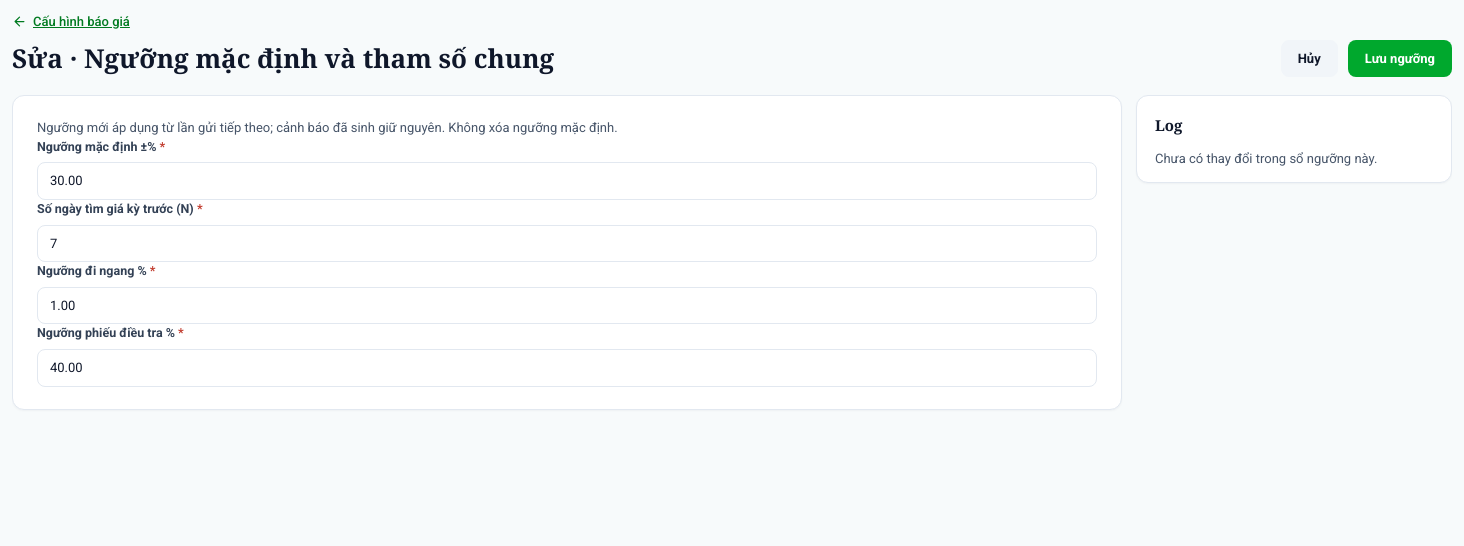
Test case: BF-SWEEP-PRICE cấu hình trên trang riêng › lỗi tại trường từ máy chủ nằm dưới ô tương ứng
Step 1. Click the button "Lưu ngưỡng" → (1400, 58), box [1348,40,1452,77]
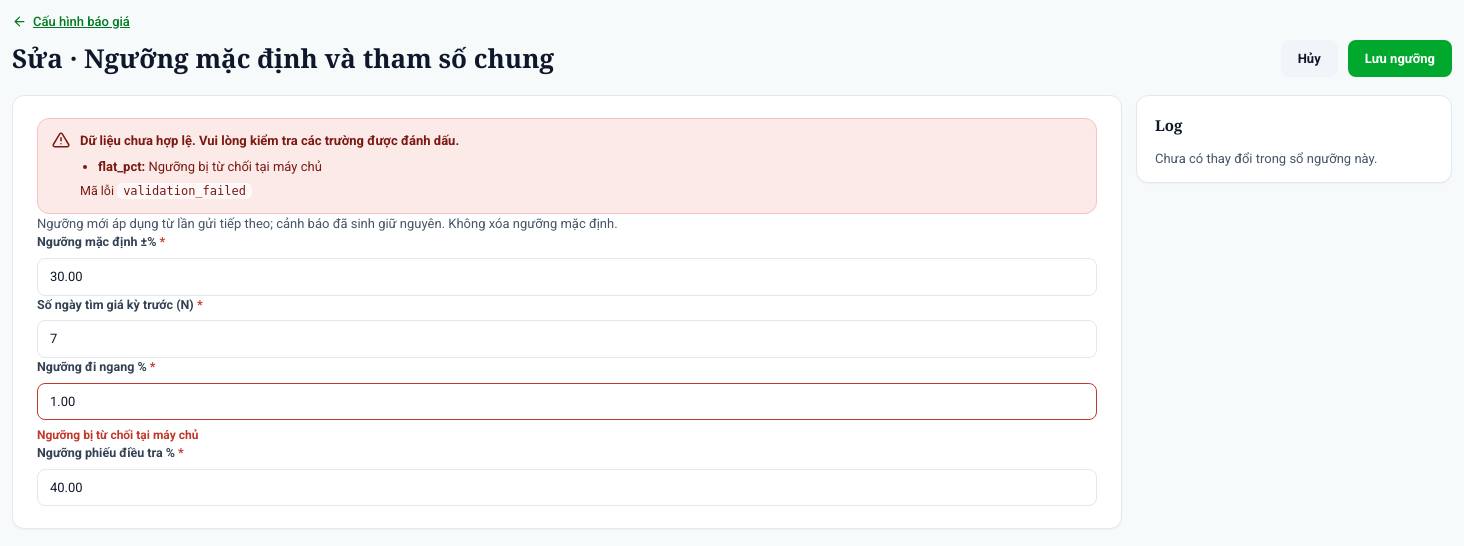
expect the message "Ngưỡng bị từ chối tại máy chủ" is shown: met, box [37,428,198,442]
